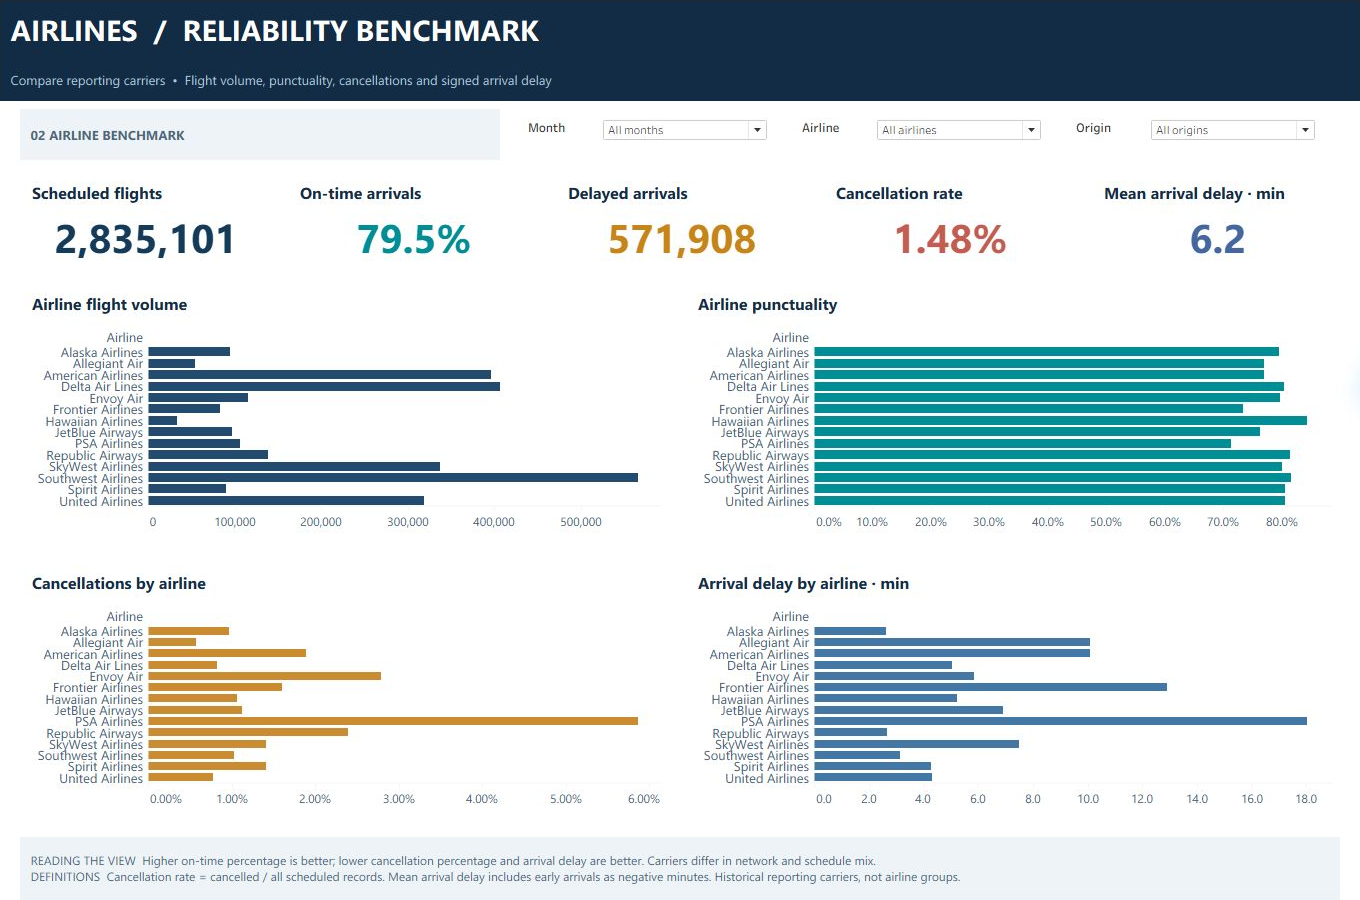

Layout of this report page (visuals, bound fields, positions):
{"tool":"tableau","page":{"name":"02 Airline Benchmark","canvas":[1360,900],"ordinal":1},"visuals":[{"type":"text","box":[0,0,1360,58.6]},{"type":"text","box":[0,58.6,1360,42.5]},{"type":"text","box":[20,109.2,480,50.6]},{"type":"parameter","param":"[Parameters].[Month Selection]","box":[520,109.2,258,50.6]},{"type":"parameter","param":"[Parameters].[Airline Selection]","box":[794,109.2,258,50.6]},{"type":"parameter","param":"[Parameters].[Origin Selection]","box":[1068,109.2,258,50.6]},{"type":"worksheet","title":"Scheduled flights","mark":"Text","box":[20,169.9,252,97.1]},{"type":"worksheet","title":"On-time arrivals","mark":"Text","box":[288,169.9,252,97.1]},{"type":"worksheet","title":"Delayed arrivals","mark":"Text","box":[556,169.9,252,97.1]},{"type":"worksheet","title":"Cancellation rate","mark":"Text","box":[824,169.9,252,97.1]},{"type":"worksheet","title":"Mean arrival delay · min","mark":"Text","box":[1092,169.9,252,97.1]},{"type":"worksheet","title":"Airline flight volume","mark":"Bar","rows":["Airline"],"cols":["Flights"],"box":[20,281.1,650,262.9]},{"type":"worksheet","title":"Airline punctuality","mark":"Bar","rows":["Airline"],"cols":["On Time Rate"],"box":[686,281.1,654,262.9]},{"type":"worksheet","title":"Cancellations by airline","mark":"Bar","rows":["Airline"],"cols":["Cancellation Rate"],"box":[20,560.2,650,260.9]},{"type":"worksheet","title":"Arrival delay by airline · min","mark":"Bar","rows":["Airline"],"cols":["Mean Arrival Delay"],"box":[686,560.2,654,260.9]},{"type":"text","box":[20,837.3,1320,62.7]}]}

Visuals, with their boxes in screenshot pixels (x1, y1, x2, y2), scaled from the page's 1360x900 canvas onto the 1360x900 screenshot:
text: {"x1": 0, "y1": 0, "x2": 1359, "y2": 59}
text: {"x1": 0, "y1": 59, "x2": 1359, "y2": 101}
text: {"x1": 20, "y1": 109, "x2": 500, "y2": 160}
parameter: {"x1": 520, "y1": 109, "x2": 778, "y2": 160}
parameter: {"x1": 794, "y1": 109, "x2": 1052, "y2": 160}
parameter: {"x1": 1068, "y1": 109, "x2": 1326, "y2": 160}
"Scheduled flights" worksheet (Text marks): {"x1": 20, "y1": 170, "x2": 272, "y2": 267}
"On-time arrivals" worksheet (Text marks): {"x1": 288, "y1": 170, "x2": 540, "y2": 267}
"Delayed arrivals" worksheet (Text marks): {"x1": 556, "y1": 170, "x2": 808, "y2": 267}
"Cancellation rate" worksheet (Text marks): {"x1": 824, "y1": 170, "x2": 1076, "y2": 267}
"Mean arrival delay · min" worksheet (Text marks): {"x1": 1092, "y1": 170, "x2": 1344, "y2": 267}
"Airline flight volume" worksheet (Bar marks): {"x1": 20, "y1": 281, "x2": 670, "y2": 544}
"Airline punctuality" worksheet (Bar marks): {"x1": 686, "y1": 281, "x2": 1340, "y2": 544}
"Cancellations by airline" worksheet (Bar marks): {"x1": 20, "y1": 560, "x2": 670, "y2": 821}
"Arrival delay by airline · min" worksheet (Bar marks): {"x1": 686, "y1": 560, "x2": 1340, "y2": 821}
text: {"x1": 20, "y1": 837, "x2": 1340, "y2": 899}
